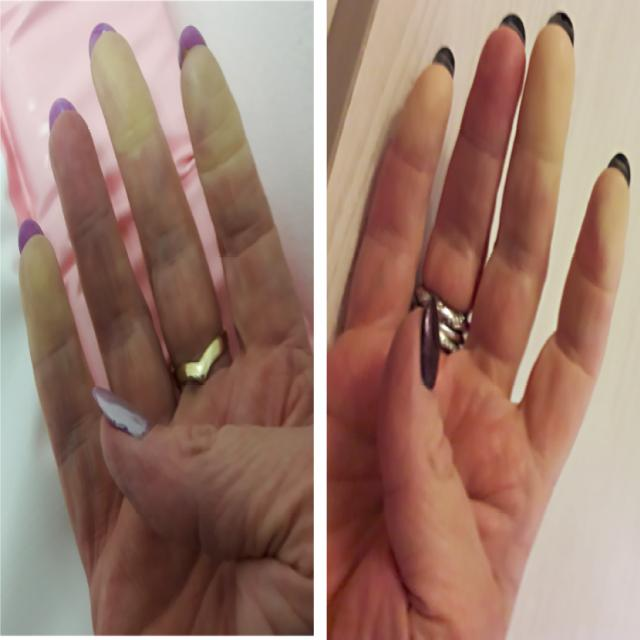raynauds: (168, 32, 256, 180), (84, 14, 159, 174), (14, 214, 81, 392), (574, 149, 634, 338), (530, 18, 578, 210), (397, 38, 461, 139)
